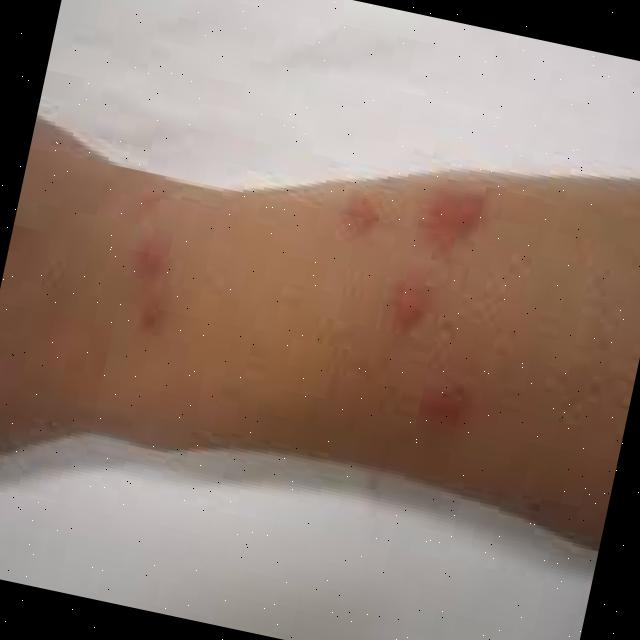kan emici bocekler: (119, 227, 187, 338), (417, 176, 483, 263), (380, 267, 440, 344), (412, 373, 478, 441), (346, 194, 388, 238)
